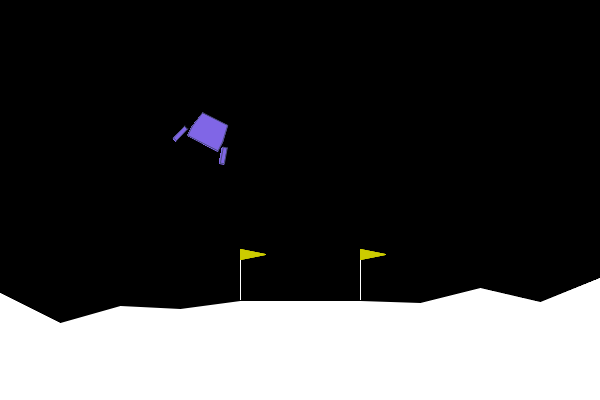lander: (171, 104, 242, 167)
